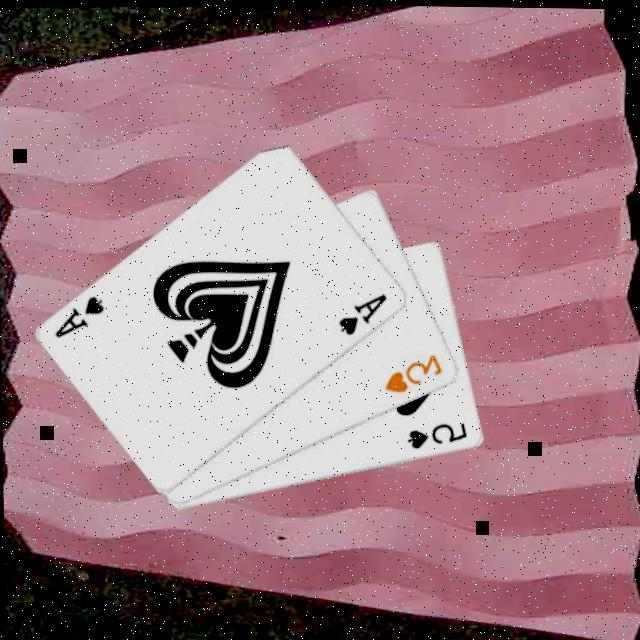3H: (380, 346, 445, 393)
5S: (403, 416, 470, 450)
AS: (50, 289, 108, 340), (334, 286, 391, 337)
